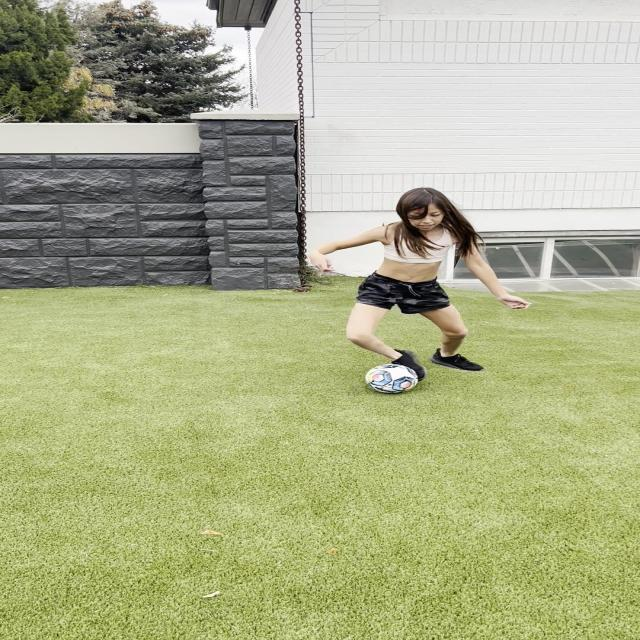Soccer Ball: (366, 363, 420, 394)
